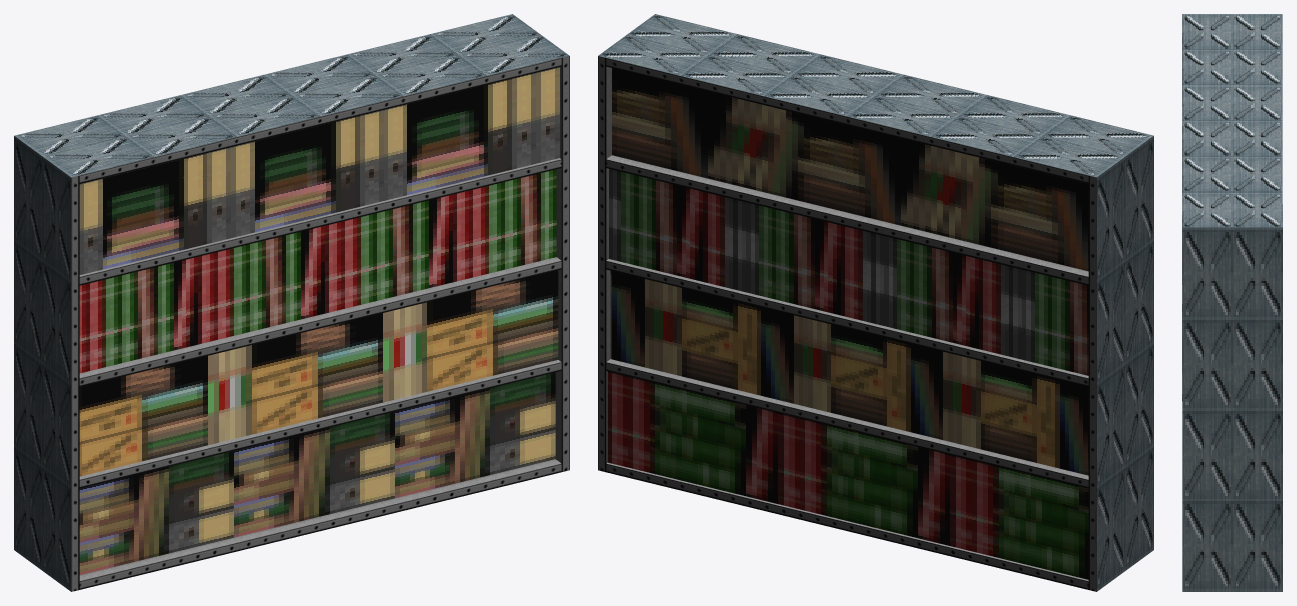
File: bookshelf.glb
3 renders of one model, left to right at view 1: azimuth 30°, elevation 25°; view 2: azimuth 150°, elevation 25°; view 3: azimuth 270°, elevation 25°, orthographic. The views are drawn at different scales.
Parts seen in each view (by area): view 1: Object; view 2: Object; view 3: Object.
Boxes of the visible parts, x1,y1,x2,y2 form: Object: [14, 14, 569, 591]; Object: [598, 14, 1153, 591]; Object: [1182, 14, 1282, 591].
Bounding box in the file's own units: 3.39 × 2.69 × 0.6737.
16 materials, 16 textured.
